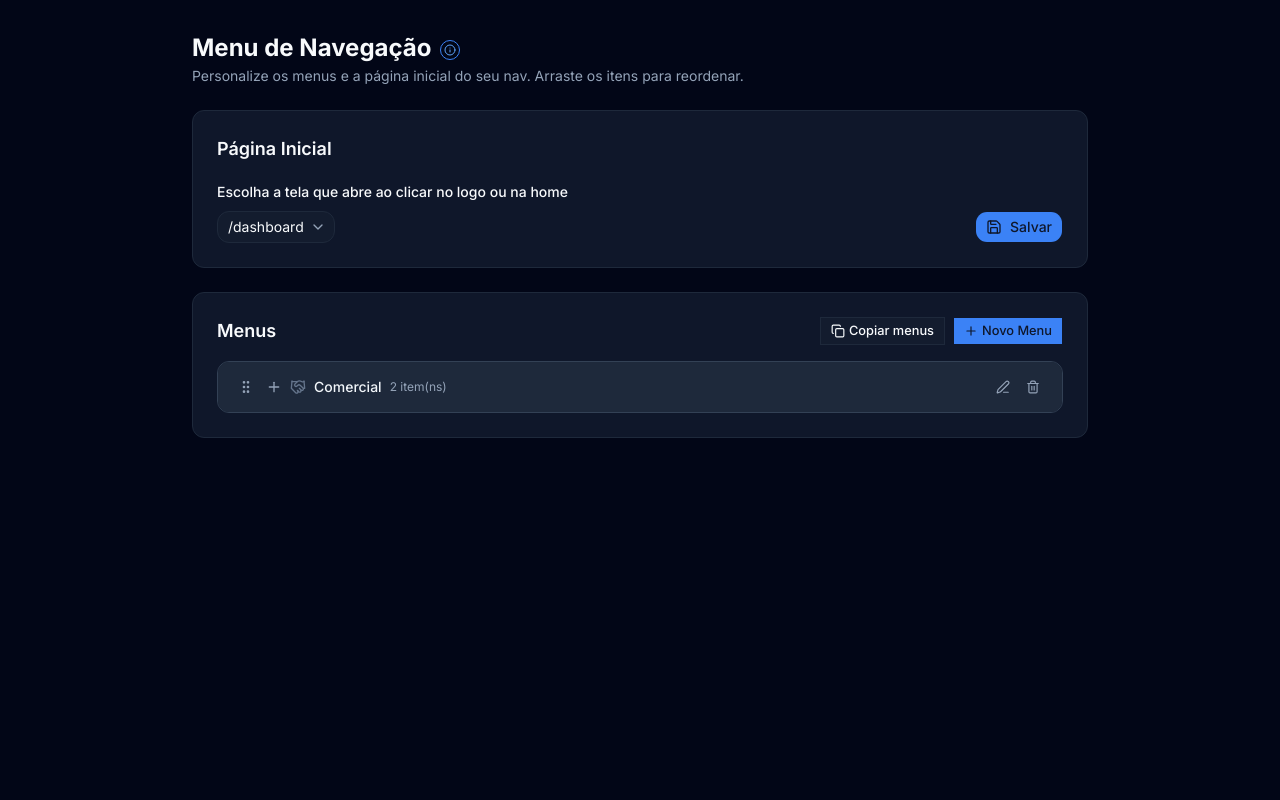
Test: ConfigurarMenusPage › exclui um item via modal de confirmação
The width and height of the screenshot is (1280, 800).
Check: the text "Comercial" is shown, box [314,377,382,397]
Click the button named "Expandir Comercial": point(274, 387) [266,379,282,395]
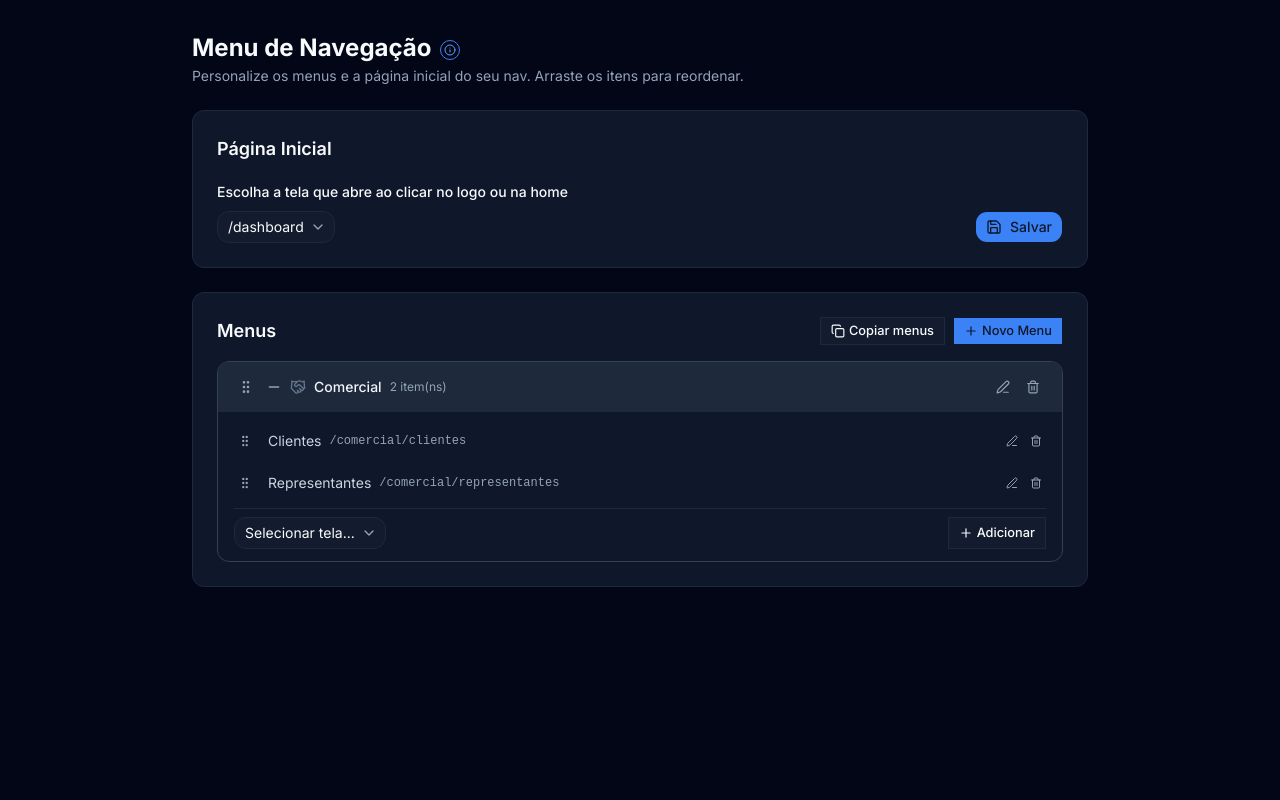
Check: the button named "Excluir item Clientes" is shown
Click the button named "Excluir item Clientes": point(1036, 441) [1026,431,1046,451]
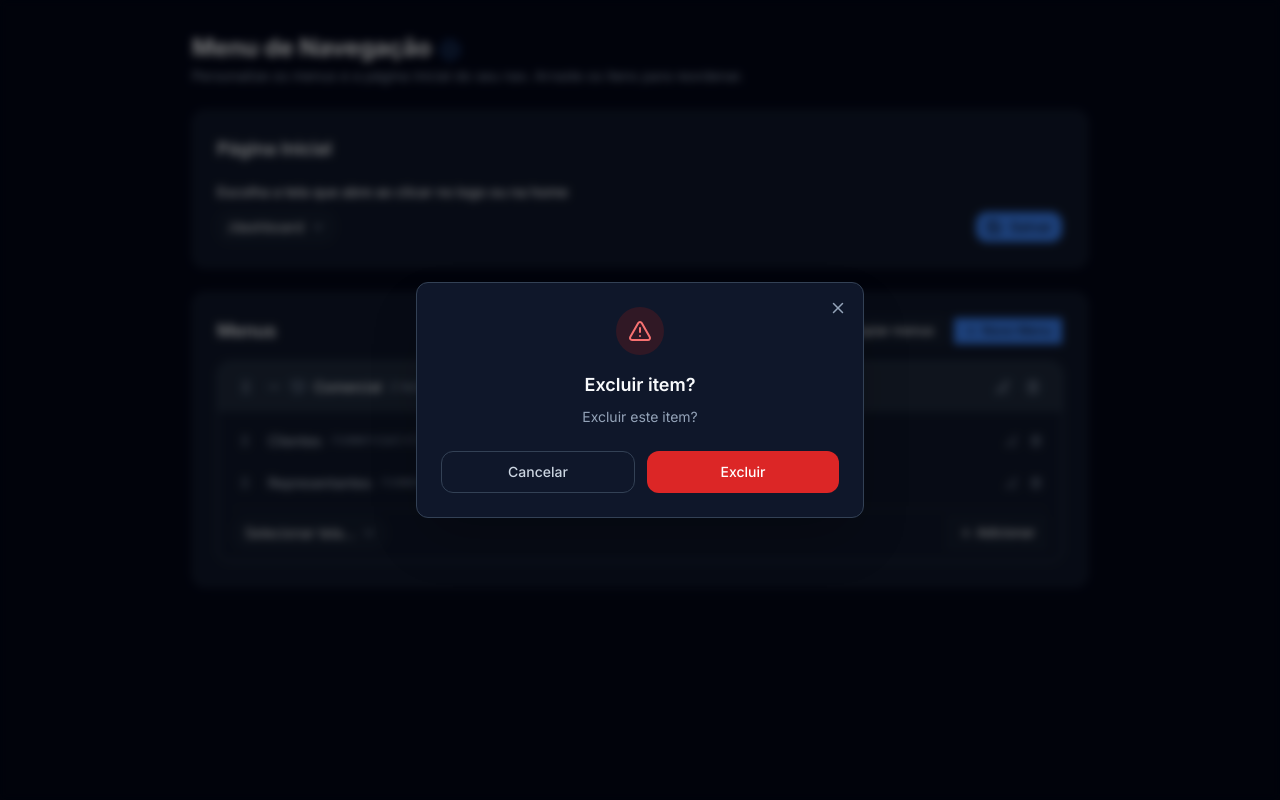
Check: the text "Excluir este item?" is shown, box [582,408,698,425]
Click the button "Excluir": point(743, 472) [647,451,839,493]
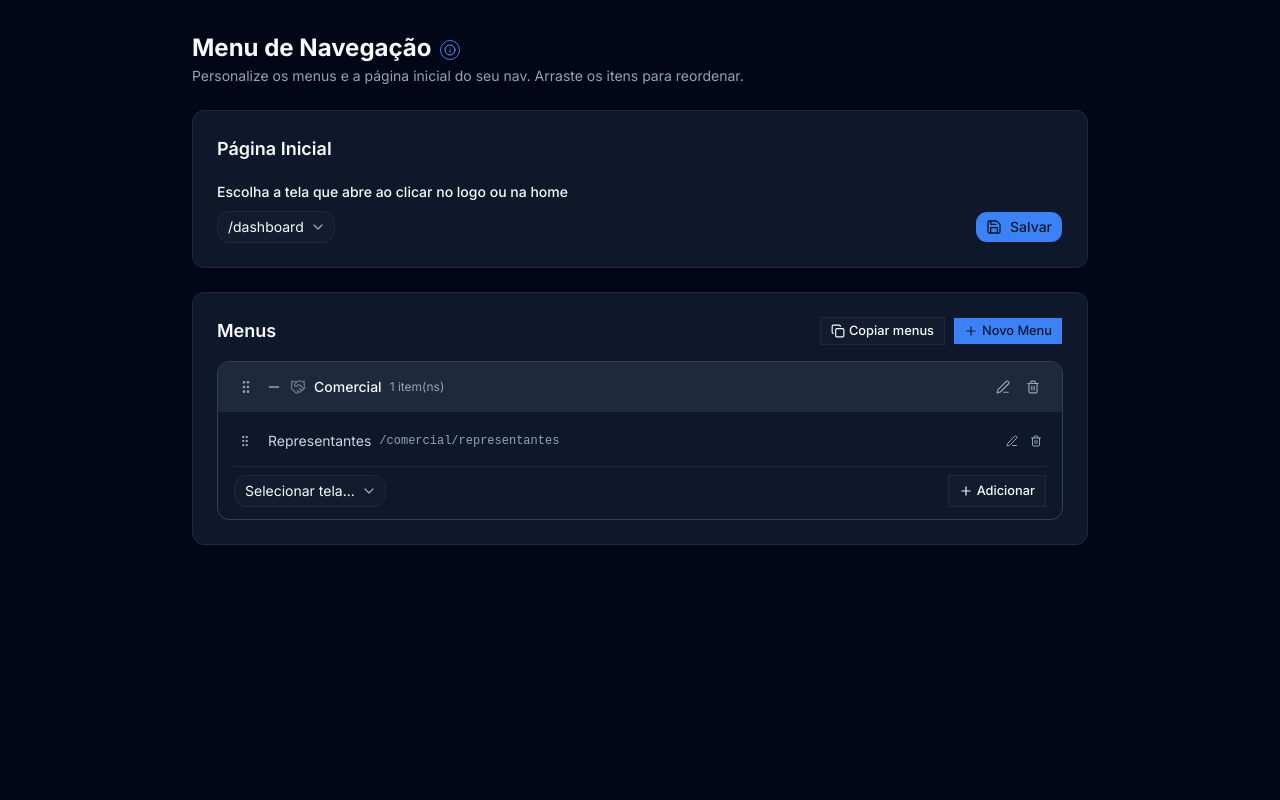
Check: the button named "Excluir item Representantes" is shown, box [1026,431,1046,451]
Check: the text "1 item(ns)" is shown, box [390,379,444,395]
